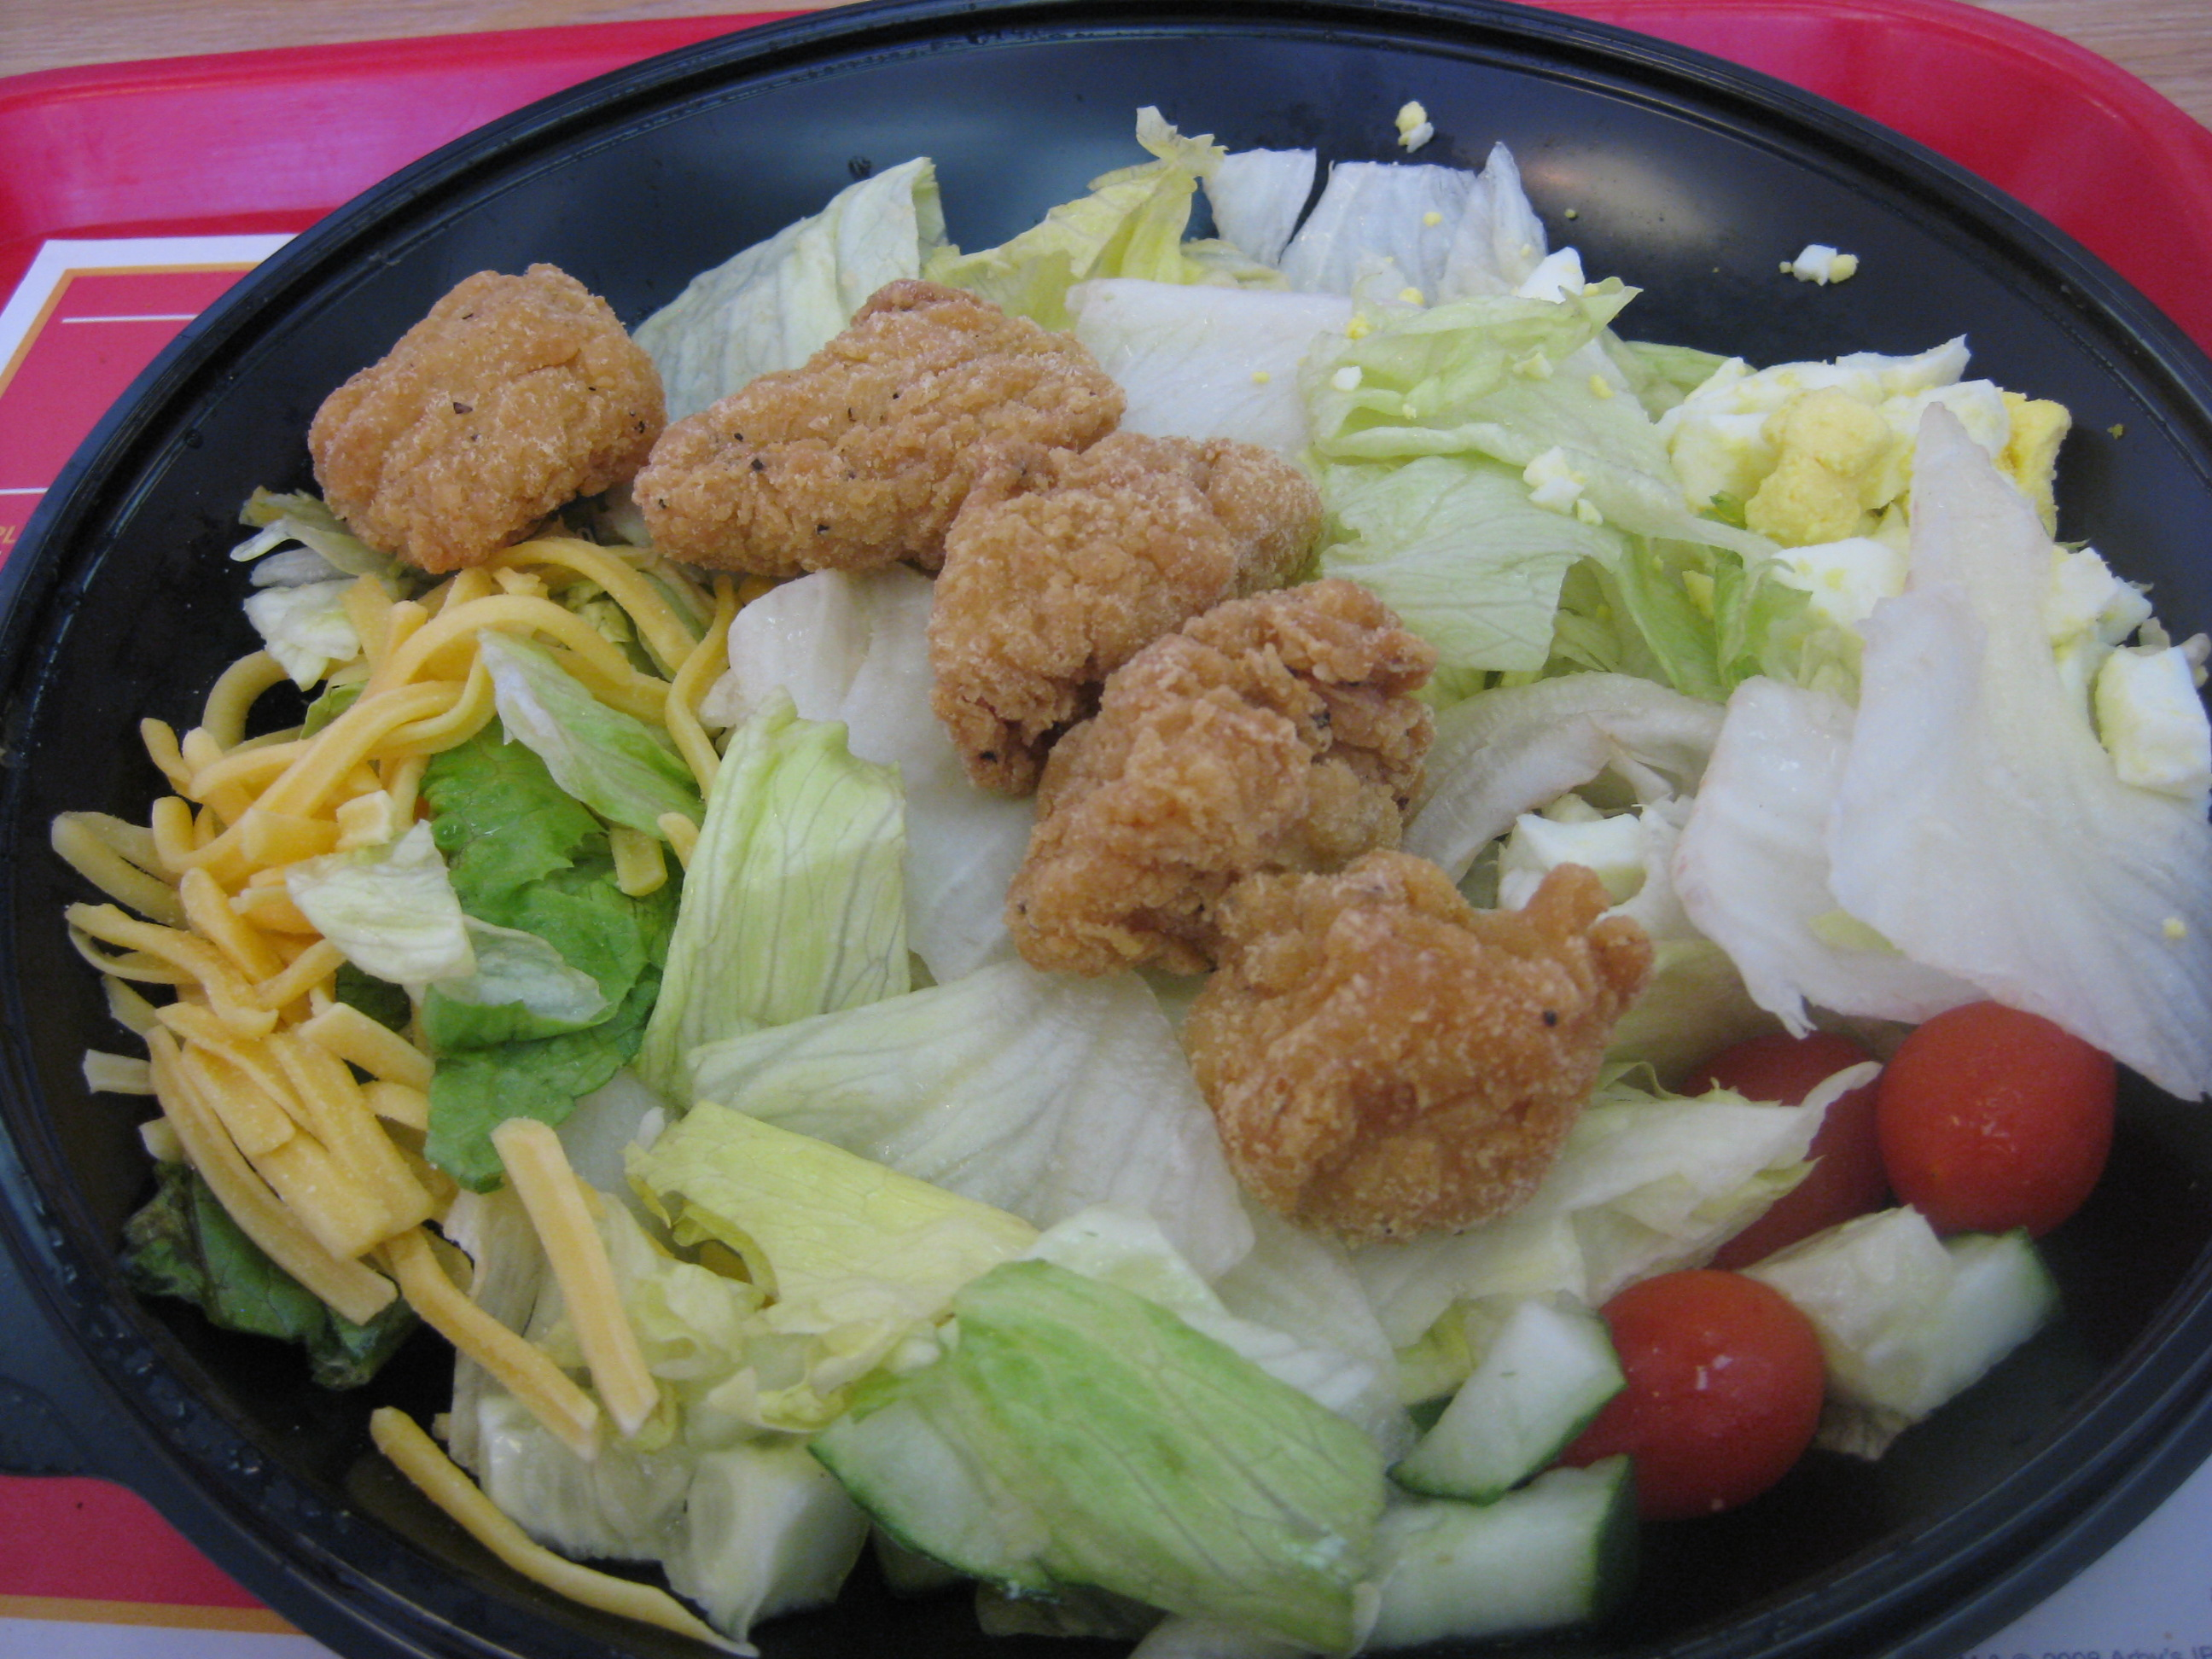salad: (84, 29, 2169, 1616)
